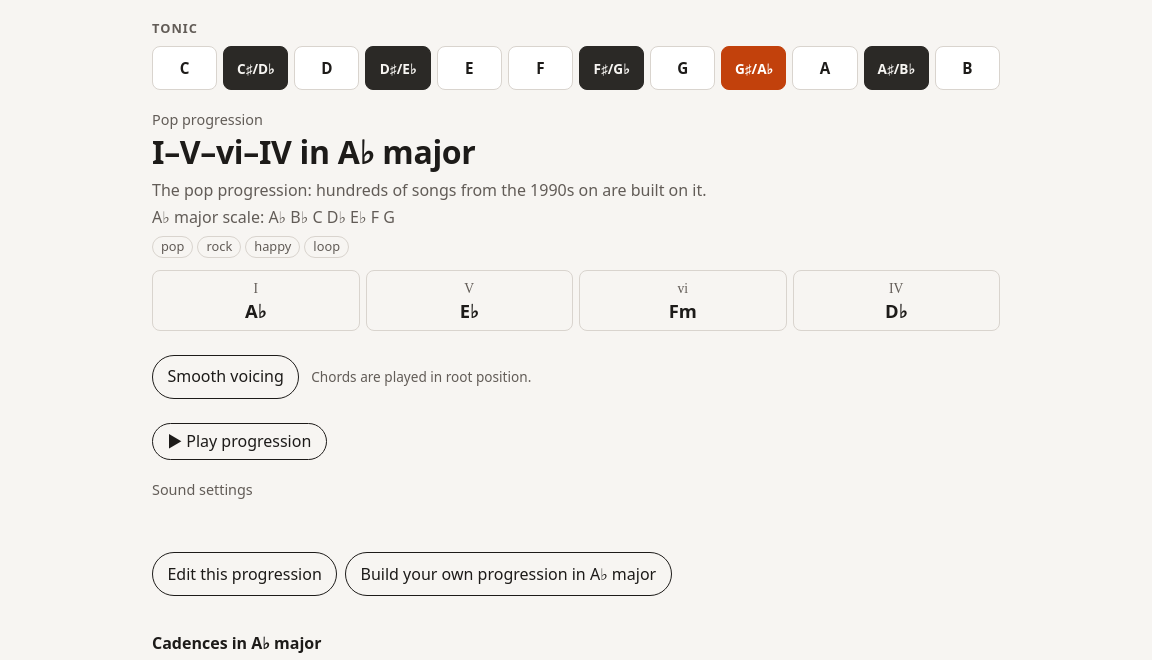
App › chord builder › opens a progression link and a chord of it in the chord view
(page scrolled)
Check: the heading "I–V–vi–IV in A♭ major" is shown, box 152,130 -> 476,173
Click the button with aria-label "Open Fm in Chords". click: (683, 300)
box: 579,270 -> 786,331
(page scrolled)
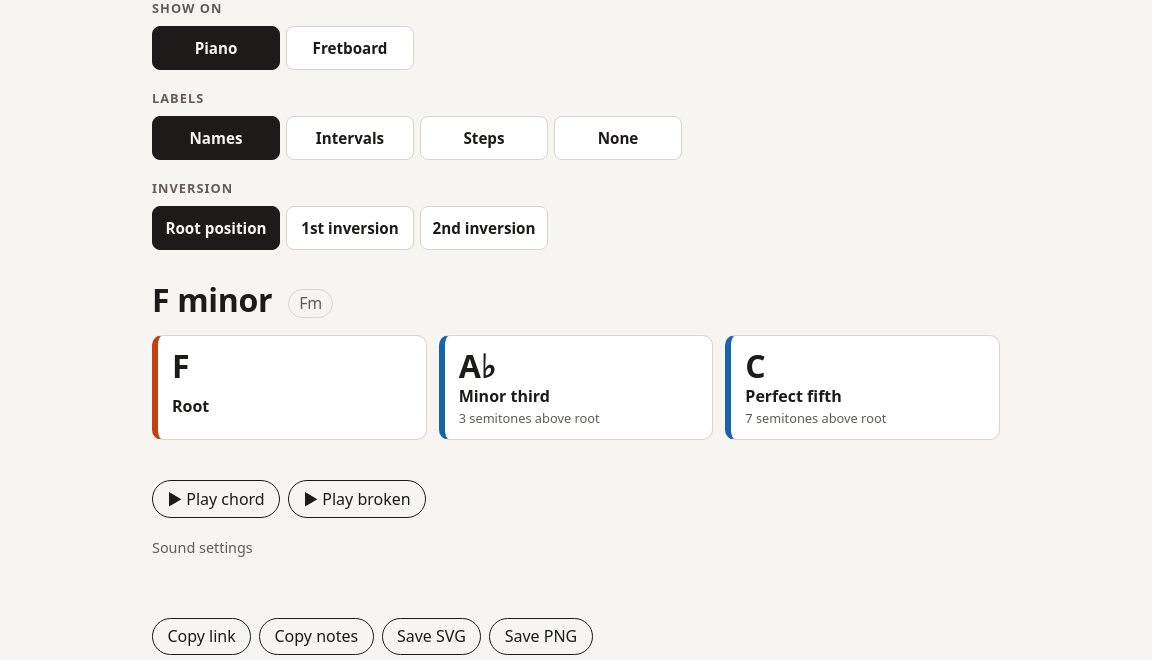
Check: the heading "F minor Fm" is shown, box 152,278 -> 333,321
